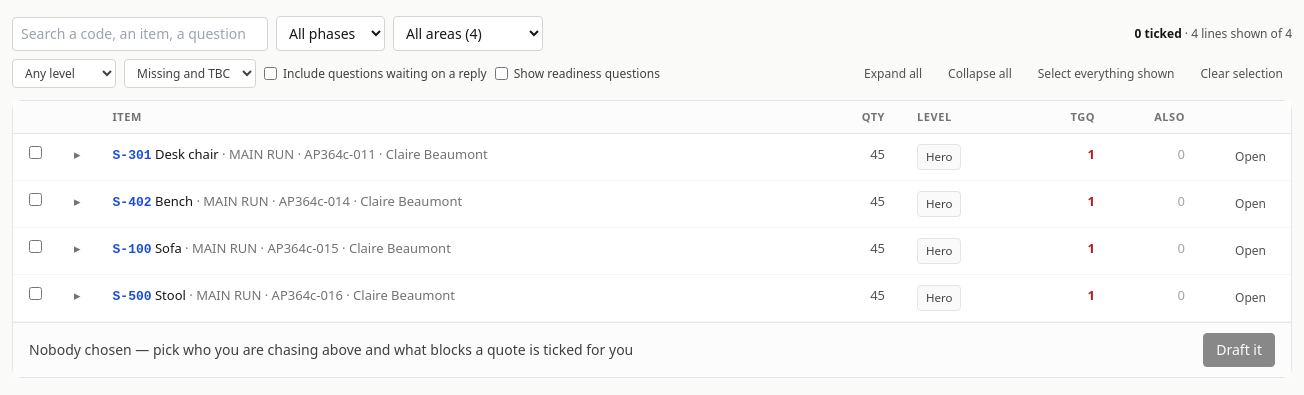
Test: filtering by area › finds a line nobody has placed, rather than dropping it
This screenshot has width=1304, height=395.
Select "No area given (1)" in the dropdown named "Filter by area": point(468, 34) top-left (393, 16), bottom-right (543, 51)
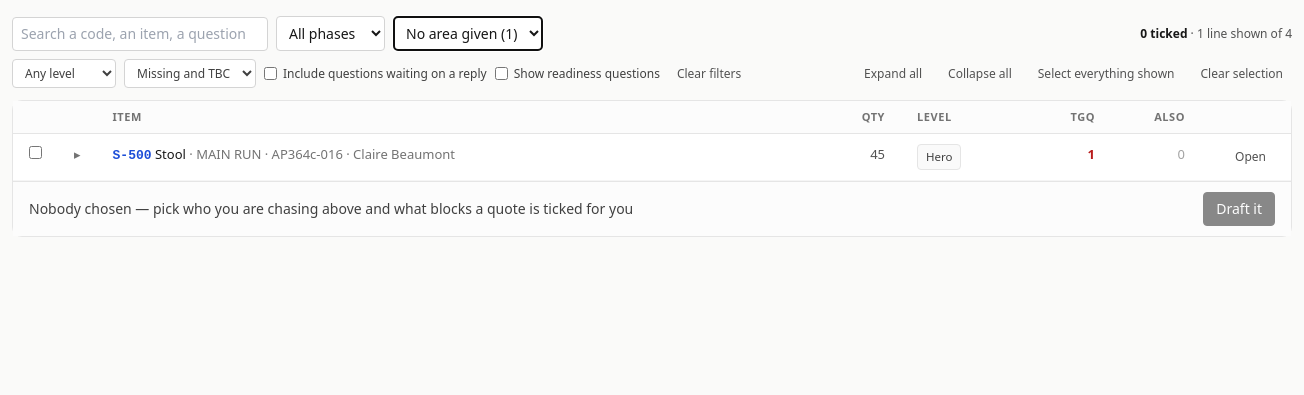
Expected: the text "Stool" is shown, top-left (155, 145), bottom-right (186, 163)
Result: the text "Desk chair" is gone
